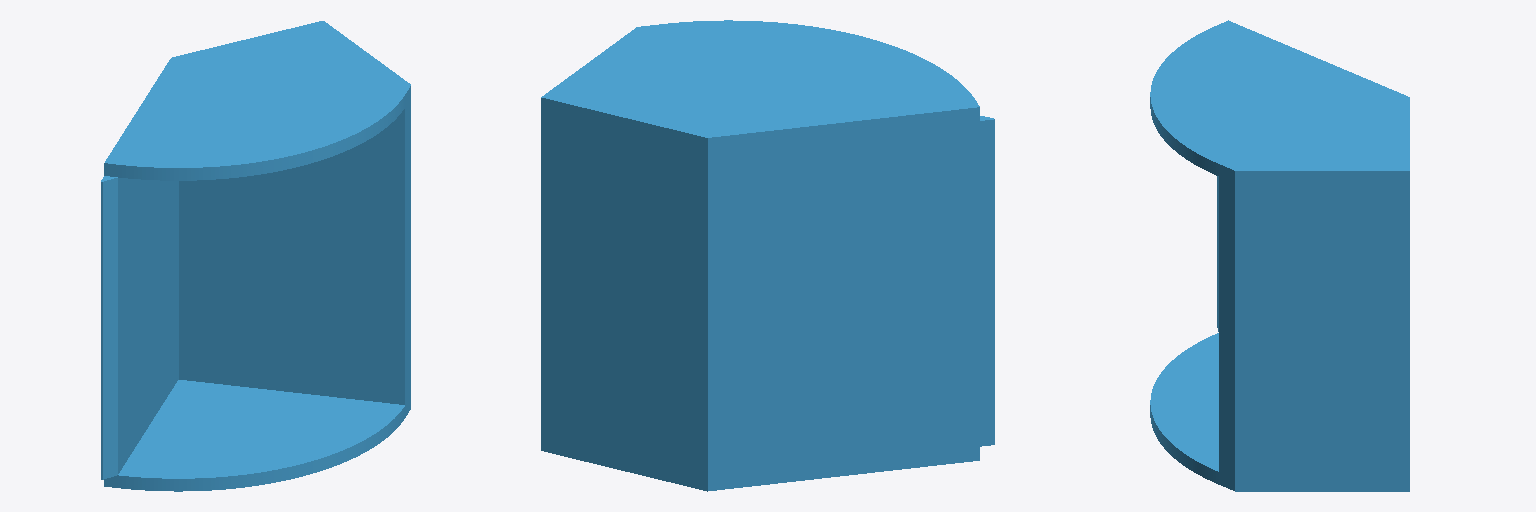
robot.urdf — panda:
<?xml version="1.0" ?>
<!-- =================================================================================== -->
<!-- |    This document was autogenerated by xacro from panda_arm.urdf.xacro           | -->
<!-- |    EDITING THIS FILE BY HAND IS NOT RECOMMENDED                                 | -->
<!-- =================================================================================== -->
<robot name="panda">
  <link name="panda_link0">
    <visual>
      <geometry>
        <mesh filename="franka_description/meshes/visual/link0.dae"/>
      </geometry>
    </visual>
    <collision>
      <geometry>
        <mesh filename="franka_description/meshes/collision/link0.stl"/>
      </geometry>
    </collision>
    <inertial>
      <origin rpy="0 0 0" xyz="-0.041018 -0.00014 0.049974"/>
      <mass value="0.629769"/>
      <inertia ixx="0.00315" ixy="8.2904e-07" ixz="0.00015" iyy="0.00388" iyz="8.2299e-06" izz="0.004285"/>
    </inertial>
  </link>
  <link name="panda_link1">
    <visual>
      <geometry>
        <mesh filename="franka_description/meshes/visual/link1.dae"/>
      </geometry>
    </visual>
    <collision>
      <geometry>
        <mesh filename="franka_description/meshes/collision/link1.stl"/>
      </geometry>
    </collision>
    <inertial>
      <origin rpy="0 0 0" xyz="0.003875 0.002081 -0.04762"/>
      <mass value="4.970684"/>
      <inertia ixx="0.70337" ixy="-0.000139" ixz="0.006772" iyy="0.70661" iyz="0.019169" izz="0.009117"/>
    </inertial>
  </link>
  <joint name="panda_joint1" type="revolute">
    <safety_controller k_position="100.0" k_velocity="40.0" soft_lower_limit="-2.8973" soft_upper_limit="2.8973"/>
    <origin rpy="0 0 0" xyz="0 0 0.333"/>
    <parent link="panda_link0"/>
    <child link="panda_link1"/>
    <axis xyz="0 0 1"/>
    <limit effort="87" lower="-2.8973" upper="2.8973" velocity="2.1750"/>
    <dynamics D="1" K="7000" damping="0.003" friction="0.0" mu_coulomb="0" mu_viscous="16"/>
  </joint>
  <link name="panda_link2">
    <visual>
      <geometry>
        <mesh filename="franka_description/meshes/visual/link2.dae"/>
      </geometry>
    </visual>
    <collision>
      <geometry>
        <mesh filename="franka_description/meshes/collision/link2.stl"/>
      </geometry>
    </collision>
    <inertial>
      <origin rpy="0 0 0" xyz="-0.003141 -0.02872  0.003495"/>
      <mass value="0.646926"/>
      <inertia ixx="0.007962" ixy="-0.003925" ixz="0.010254" iyy="0.02811" iyz="0.000704" izz="0.025995"/>
    </inertial>
  </link>
  <joint name="panda_joint2" type="revolute">
    <safety_controller k_position="100.0" k_velocity="40.0" soft_lower_limit="-1.7628" soft_upper_limit="1.7628"/>
    <origin rpy="-1.5707963267948966 0 0" xyz="0 0 0"/>
    <parent link="panda_link1"/>
    <child link="panda_link2"/>
    <axis xyz="0 0 1"/>
    <limit effort="87" lower="-1.7628" upper="1.7628" velocity="2.1750"/>
    <dynamics D="1" K="7000" damping="0.003" friction="0.0" mu_coulomb="0" mu_viscous="16"/>
  </joint>
  <link name="panda_link3">
    <visual>
      <geometry>
        <mesh filename="franka_description/meshes/visual/link3.dae"/>
      </geometry>
    </visual>
    <collision>
      <geometry>
        <mesh filename="franka_description/meshes/collision/link3.stl"/>
      </geometry>
    </collision>
    <inertial>
      <origin rpy="0 0 0" xyz="2.7518e-02 3.9252e-02 -6.6502e-02"/>
      <mass value="3.228604"/>
      <inertia ixx="0.037242" ixy="-0.004761" ixz="-0.011396" iyy="0.036155" iyz="-0.012805" izz="0.01083"/>
    </inertial>
  </link>
  <joint name="panda_joint3" type="revolute">
    <safety_controller k_position="100.0" k_velocity="40.0" soft_lower_limit="-2.8973" soft_upper_limit="2.8973"/>
    <origin rpy="1.5707963267948966 0 0" xyz="0 -0.316 0"/>
    <parent link="panda_link2"/>
    <child link="panda_link3"/>
    <axis xyz="0 0 1"/>
    <limit effort="87" lower="-2.8973" upper="2.8973" velocity="2.1750"/>
    <dynamics D="1" K="7000" damping="0.003" friction="0.0" mu_coulomb="0" mu_viscous="16"/>
  </joint>
  <link name="panda_link4">
    <visual>
      <geometry>
        <mesh filename="franka_description/meshes/visual/link4.dae"/>
      </geometry>
    </visual>
    <collision>
      <geometry>
        <mesh filename="franka_description/meshes/collision/link4.stl"/>
      </geometry>
    </collision>
    <inertial>
      <origin rpy="0 0 0" xyz="-5.317e-02 1.04419e-01 2.7454e-02"/>
      <mass value="3.587895"/>
      <inertia ixx="0.025853" ixy="0.007796" ixz="-0.001332" iyy="0.019552" iyz="0.008641" izz="0.028323"/>
    </inertial>
  </link>
  <joint name="panda_joint4" type="revolute">
    <safety_controller k_position="100.0" k_velocity="40.0" soft_lower_limit="-3.0718" soft_upper_limit="-0.0698"/>
    <origin rpy="1.5707963267948966 0 0" xyz="0.0825 0 0"/>
    <parent link="panda_link3"/>
    <child link="panda_link4"/>
    <axis xyz="0 0 1"/>
    <limit effort="87" lower="-3.0718" upper="-0.0698" velocity="2.1750"/>
    <dynamics D="1" K="7000" damping="0.003" friction="0.0" mu_coulomb="0" mu_viscous="16"/>
  </joint>
  <link name="panda_link5">
    <visual>
      <geometry>
        <mesh filename="franka_description/meshes/visual/link5.dae"/>
      </geometry>
    </visual>
    <collision>
      <geometry>
        <mesh filename="franka_description/meshes/collision/link5.stl"/>
      </geometry>
    </collision>
    <inertial>
      <origin rpy="0 0 0" xyz="-1.1953e-02 4.1065e-02 -3.8437e-02"/>
      <mass value="1.225946"/>
      <inertia ixx="0.035549" ixy="-0.002117" ixz="-0.004037" iyy="0.029474" iyz="0.000229" izz="0.008627"/>
    </inertial>
  </link>
  <joint name="panda_joint5" type="revolute">
    <safety_controller k_position="100.0" k_velocity="40.0" soft_lower_limit="-2.8973" soft_upper_limit="2.8973"/>
    <origin rpy="-1.5707963267948966 0 0" xyz="-0.0825 0.384 0"/>
    <parent link="panda_link4"/>
    <child link="panda_link5"/>
    <axis xyz="0 0 1"/>
    <limit effort="12" lower="-2.8973" upper="2.8973" velocity="2.6100"/>
    <dynamics D="1" K="7000" damping="0.003" friction="0.0" mu_coulomb="0" mu_viscous="16"/>
  </joint>
  <link name="panda_link6">
    <visual>
      <geometry>
        <mesh filename="franka_description/meshes/visual/link6.dae"/>
      </geometry>
    </visual>
    <collision>
      <geometry>
        <mesh filename="franka_description/meshes/collision/link6.stl"/>
      </geometry>
    </collision>
    <inertial>
      <origin rpy="0 0 0" xyz="6.0149e-02 -1.4117e-02 -1.0517e-02"/>
      <mass value="1.666555"/>
      <inertia ixx="0.001964" ixy="0.000109" ixz="-0.001158" iyy="0.004354" iyz="0.000341" izz="0.005433"/>
    </inertial>
  </link>
  <joint name="panda_joint6" type="revolute">
    <safety_controller k_position="100.0" k_velocity="40.0" soft_lower_limit="-0.0175" soft_upper_limit="3.7525"/>
    <origin rpy="1.5707963267948966 0 0" xyz="0 0 0"/>
    <parent link="panda_link5"/>
    <child link="panda_link6"/>
    <axis xyz="0 0 1"/>
    <limit effort="12" lower="-0.0175" upper="3.7525" velocity="2.6100"/>
    <dynamics D="1" K="7000" damping="0.003" friction="0.0" mu_coulomb="0" mu_viscous="16"/>
  </joint>
  <link name="panda_link7">
    <visual>
      <geometry>
        <mesh filename="franka_description/meshes/visual/link7.dae"/>
      </geometry>
    </visual>
    <collision>
      <geometry>
        <mesh filename="franka_description/meshes/collision/link7.stl"/>
      </geometry>
    </collision>
    <inertial>
      <origin rpy="0 0 0" xyz="1.0517e-02 -4.252e-03 6.1597e-02"/>
      <mass value="0.735522"/>
      <inertia ixx="0.012516" ixy="-0.000428" ixz="-0.001196" iyy="0.010027" iyz="-0.000741" izz="0.004815"/>
    </inertial>
  </link>
  <joint name="panda_joint7" type="revolute">
    <safety_controller k_position="100.0" k_velocity="40.0" soft_lower_limit="-2.8973" soft_upper_limit="2.8973"/>
    <origin rpy="1.5707963267948966 0 0" xyz="0.088 0 0"/>
    <parent link="panda_link6"/>
    <child link="panda_link7"/>
    <axis xyz="0 0 1"/>
    <limit effort="12" lower="-2.8973" upper="2.8973" velocity="2.6100"/>
    <dynamics D="1" K="7000" damping="0.003" friction="0.0" mu_coulomb="0" mu_viscous="16"/>
  </joint>
  <link name="panda_link8"/>
  <joint name="panda_joint8" type="fixed">
    <origin rpy="0 0 0" xyz="0 0 0.107"/>
    <parent link="panda_link7"/>
    <child link="panda_link8"/>
  </joint>
  <link name="bucket">
    <visual>
      <origin xyz="0 0 0" rpy="0 0 0" />
      <geometry>
        <mesh filename="bucket/bucket_45.stl" />
      </geometry>
    </visual>
    <collision>
      <origin xyz="0 0 0" rpy="0 0 0" />
      <geometry>
        <mesh filename="bucket/bucket_45.stl" />
      </geometry>
    </collision>
  </link>
  <joint name="bucket_joint" type="fixed">
    <origin xyz="0 0 0" rpy="0 0 0" />
    <parent link="panda_link8" />
    <child link="bucket" />
  </joint>
</robot>

--- Facts derived from the render (not from the file) ---
Views: 3 orthographic renders of the robot side by side, from view 1: azimuth 30°, elevation 25°; view 2: azimuth 150°, elevation 25°; view 3: azimuth 270°, elevation 25°.
Model panda with 10 links and 9 joints (7 revolute, 2 fixed), rooted at panda_link0, posed joints at zero except 1 at the middle of their limits (panda_joint4 = -1.57).
Links seen in each view (by area): view 1: bucket; view 2: bucket; view 3: bucket.
Link boxes in pixels (x1,y1,x2,y2): bucket: (101, 21, 410, 491); bucket: (541, 20, 994, 491); bucket: (1150, 20, 1409, 491).
Bounding box of the posed robot: 0.0785 × 0.0557 × 0.076 m (x, y, z).
Meshes: 9 distinct files referenced, 1 mesh visuals loaded (1 binary STL); not drawn: 8 (reference not matched to a file when rendering).